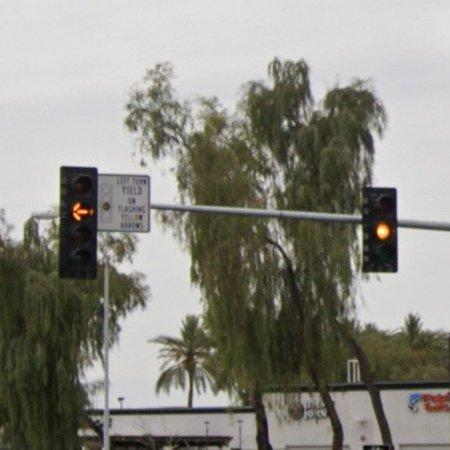traffic lights: (59, 167, 97, 279)
